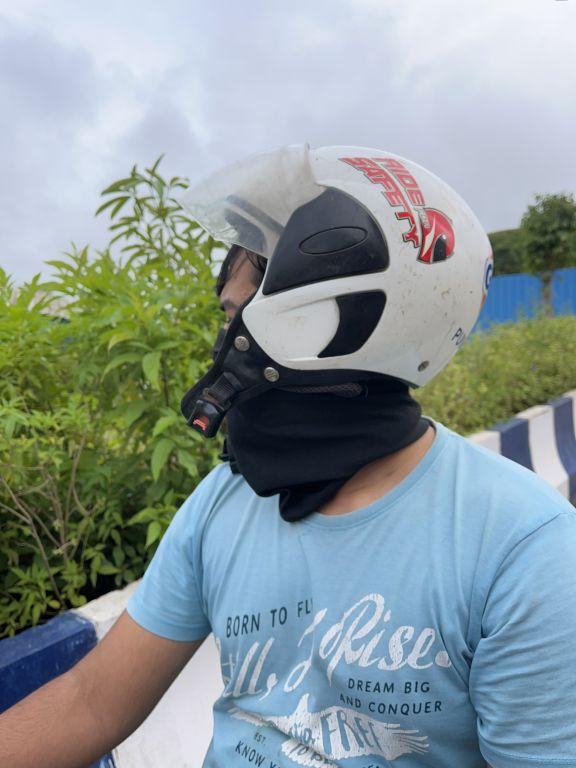helmet: (169, 134, 500, 447)
